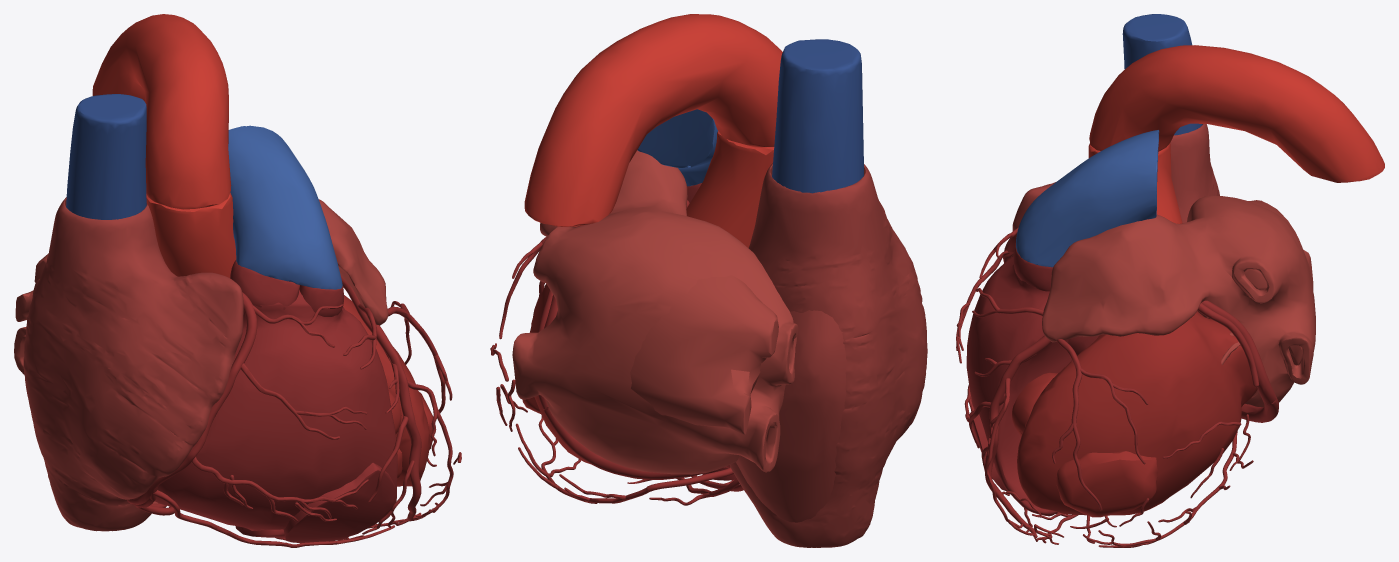
The model's file is heart.glb.
3 renders of one model, left to right at view 1: azimuth 30°, elevation 25°; view 2: azimuth 150°, elevation 25°; view 3: azimuth 270°, elevation 25°, orthographic. The views are drawn at different scales.
Visible parts, largest first — view 1: right-atrium, right-ventricle, aorta, heart-other, pulmonary-trunk, venae-cavae, left-atrium, left-ventricle; view 2: left-atrium, right-atrium, aorta, venae-cavae, heart-other, pulmonary-trunk, left-ventricle; view 3: left-ventricle, left-atrium, aorta, heart-other, right-ventricle, pulmonary-trunk, right-atrium, venae-cavae.
Part boxes in pixels (bbox=[...]): right-atrium: bbox=[23, 197, 243, 531]; right-ventricle: bbox=[155, 260, 397, 542]; aorta: bbox=[92, 14, 236, 277]; heart-other: bbox=[127, 275, 461, 547]; pulmonary-trunk: bbox=[228, 125, 342, 289]; venae-cavae: bbox=[66, 94, 146, 219]; left-atrium: bbox=[14, 199, 388, 374]; left-ventricle: bbox=[343, 295, 434, 486]; left-atrium: bbox=[512, 150, 798, 474]; right-atrium: bbox=[729, 163, 927, 547]; aorta: bbox=[524, 14, 782, 247]; venae-cavae: bbox=[772, 39, 863, 193]; heart-other: bbox=[490, 200, 743, 505]; pulmonary-trunk: bbox=[637, 109, 717, 186]; left-ventricle: bbox=[522, 284, 589, 463]; left-ventricle: bbox=[1012, 311, 1257, 517]; left-atrium: bbox=[1042, 195, 1315, 407]; aorta: bbox=[1088, 45, 1384, 223]; heart-other: bbox=[956, 227, 1278, 547]; right-ventricle: bbox=[966, 242, 1098, 516]; pulmonary-trunk: bbox=[1016, 130, 1159, 267]; right-atrium: bbox=[1003, 124, 1219, 260]; venae-cavae: bbox=[1122, 14, 1202, 135].
Bounding box in the file's own units: 2.77 × 3.4 × 3.03.
